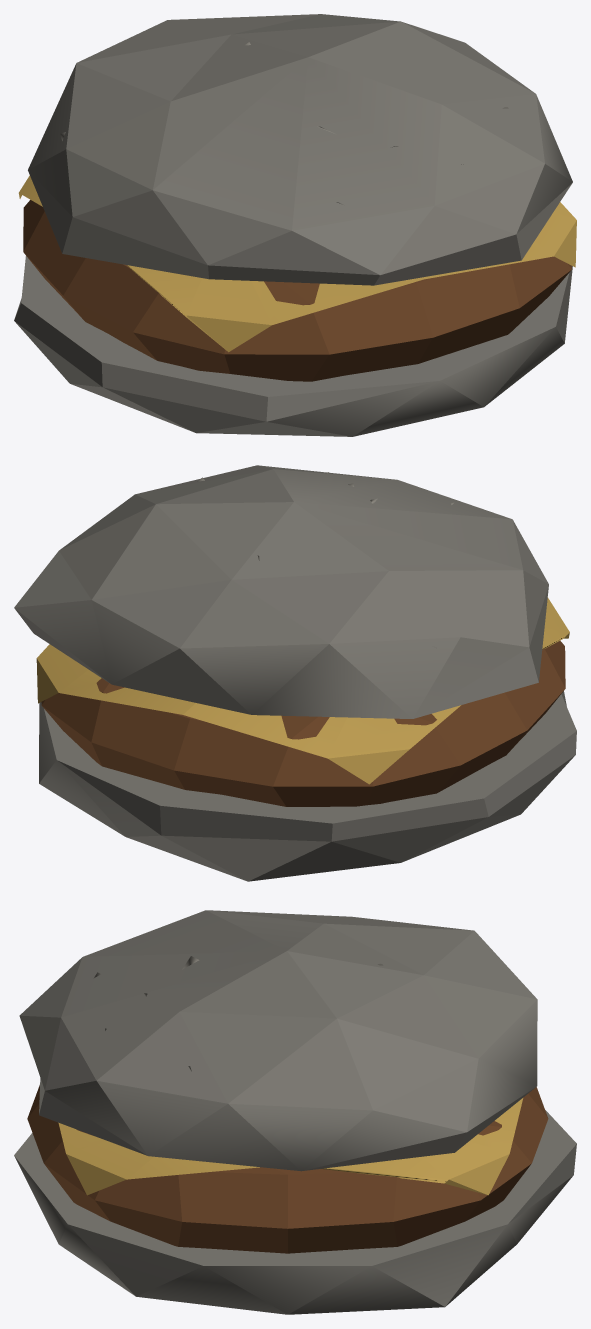
File: cc0-cheeseburger-lod1.glb
The picture shows the model from 3 angles, top to bottom: view 1: azimuth 30°, elevation 25°; view 2: azimuth 150°, elevation 25°; view 3: azimuth 270°, elevation 25°; orthographic projection. The views are drawn at different scales.
Visible parts, largest first — view 1: part_0; view 2: part_0; view 3: part_0.
Boxes of the visible parts, x1,y1,x2,y2 form: part_0: [14, 14, 576, 436]; part_0: [14, 465, 576, 881]; part_0: [14, 910, 576, 1314].
Size of the model in its own units: 1.46 by 0.9382 by 1.54.
